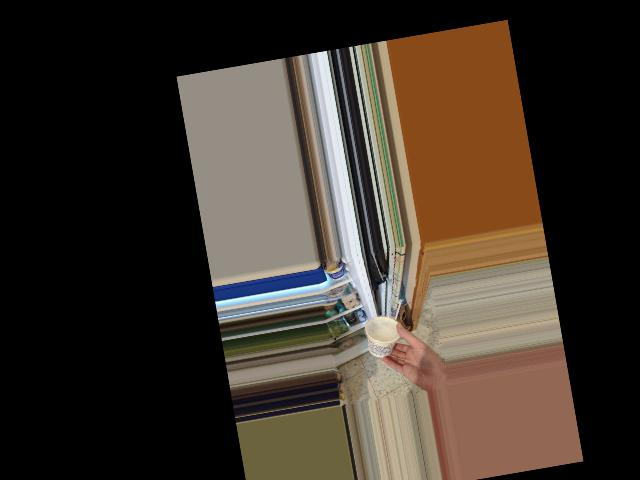cotage: (366, 318, 405, 357)
